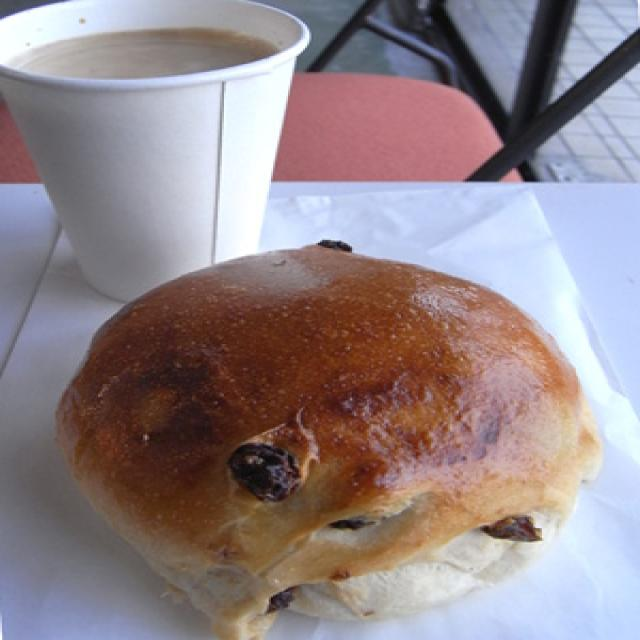面包点心: (55, 257, 604, 638)
